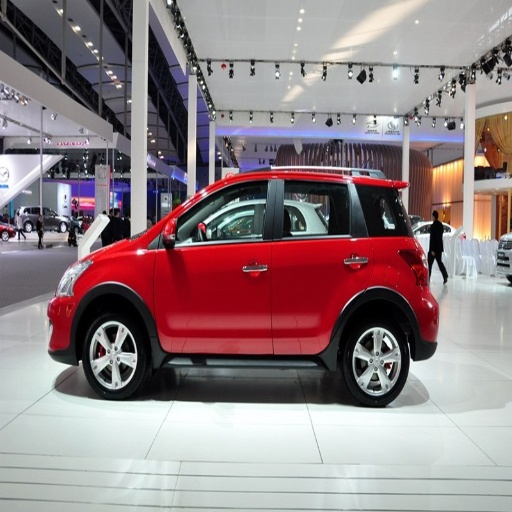back_left_door: (271, 177, 374, 351)
front_left_door: (155, 177, 277, 348)
